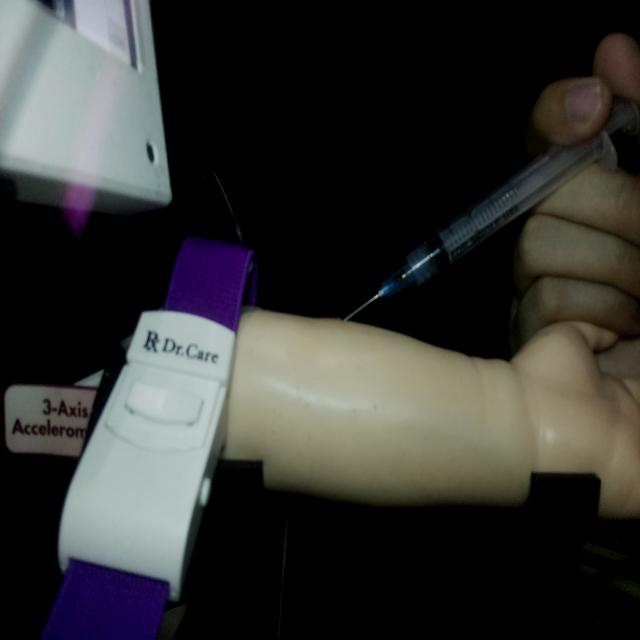29 degrees: (340, 93, 637, 324)
